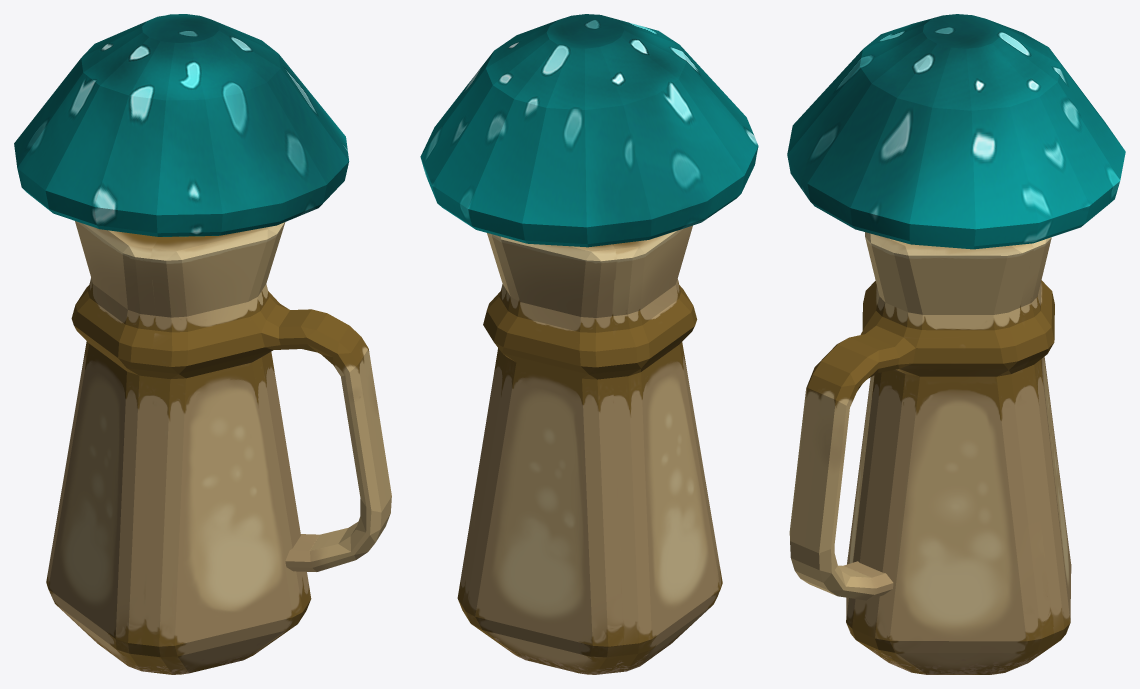
Rendered from potion_blue.fbx.
The picture shows the model from 3 angles, left to right: view 1: azimuth 30°, elevation 25°; view 2: azimuth 150°, elevation 25°; view 3: azimuth 270°, elevation 25°; orthographic projection.
Visible parts, largest first — view 1: blue potion; view 2: blue potion; view 3: blue potion.
Boxes of the visible parts, <box> form: blue potion: <box>14,14,391,674</box>; blue potion: <box>420,14,758,674</box>; blue potion: <box>787,14,1125,674</box>.
Size of the model in its own units: 12.65 by 12.66 by 25.58.
